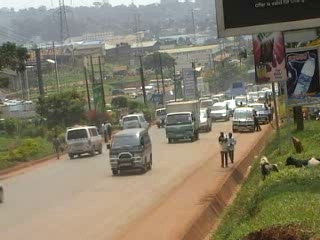Car: (196, 106, 214, 134), (209, 99, 230, 122), (223, 97, 237, 117), (0, 181, 8, 204)
